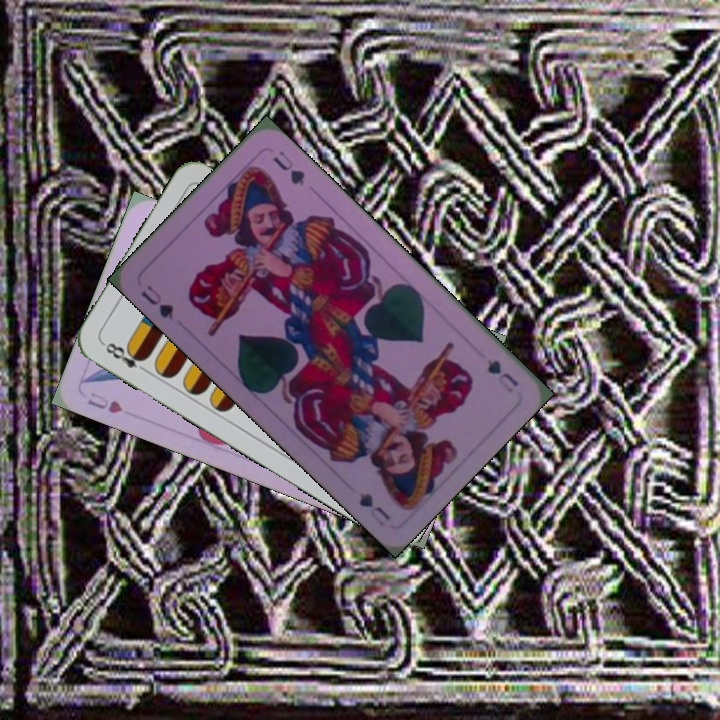E8: (99, 338, 152, 376)
GU: (137, 280, 176, 321), (483, 354, 521, 396)
HU: (83, 388, 126, 417)
